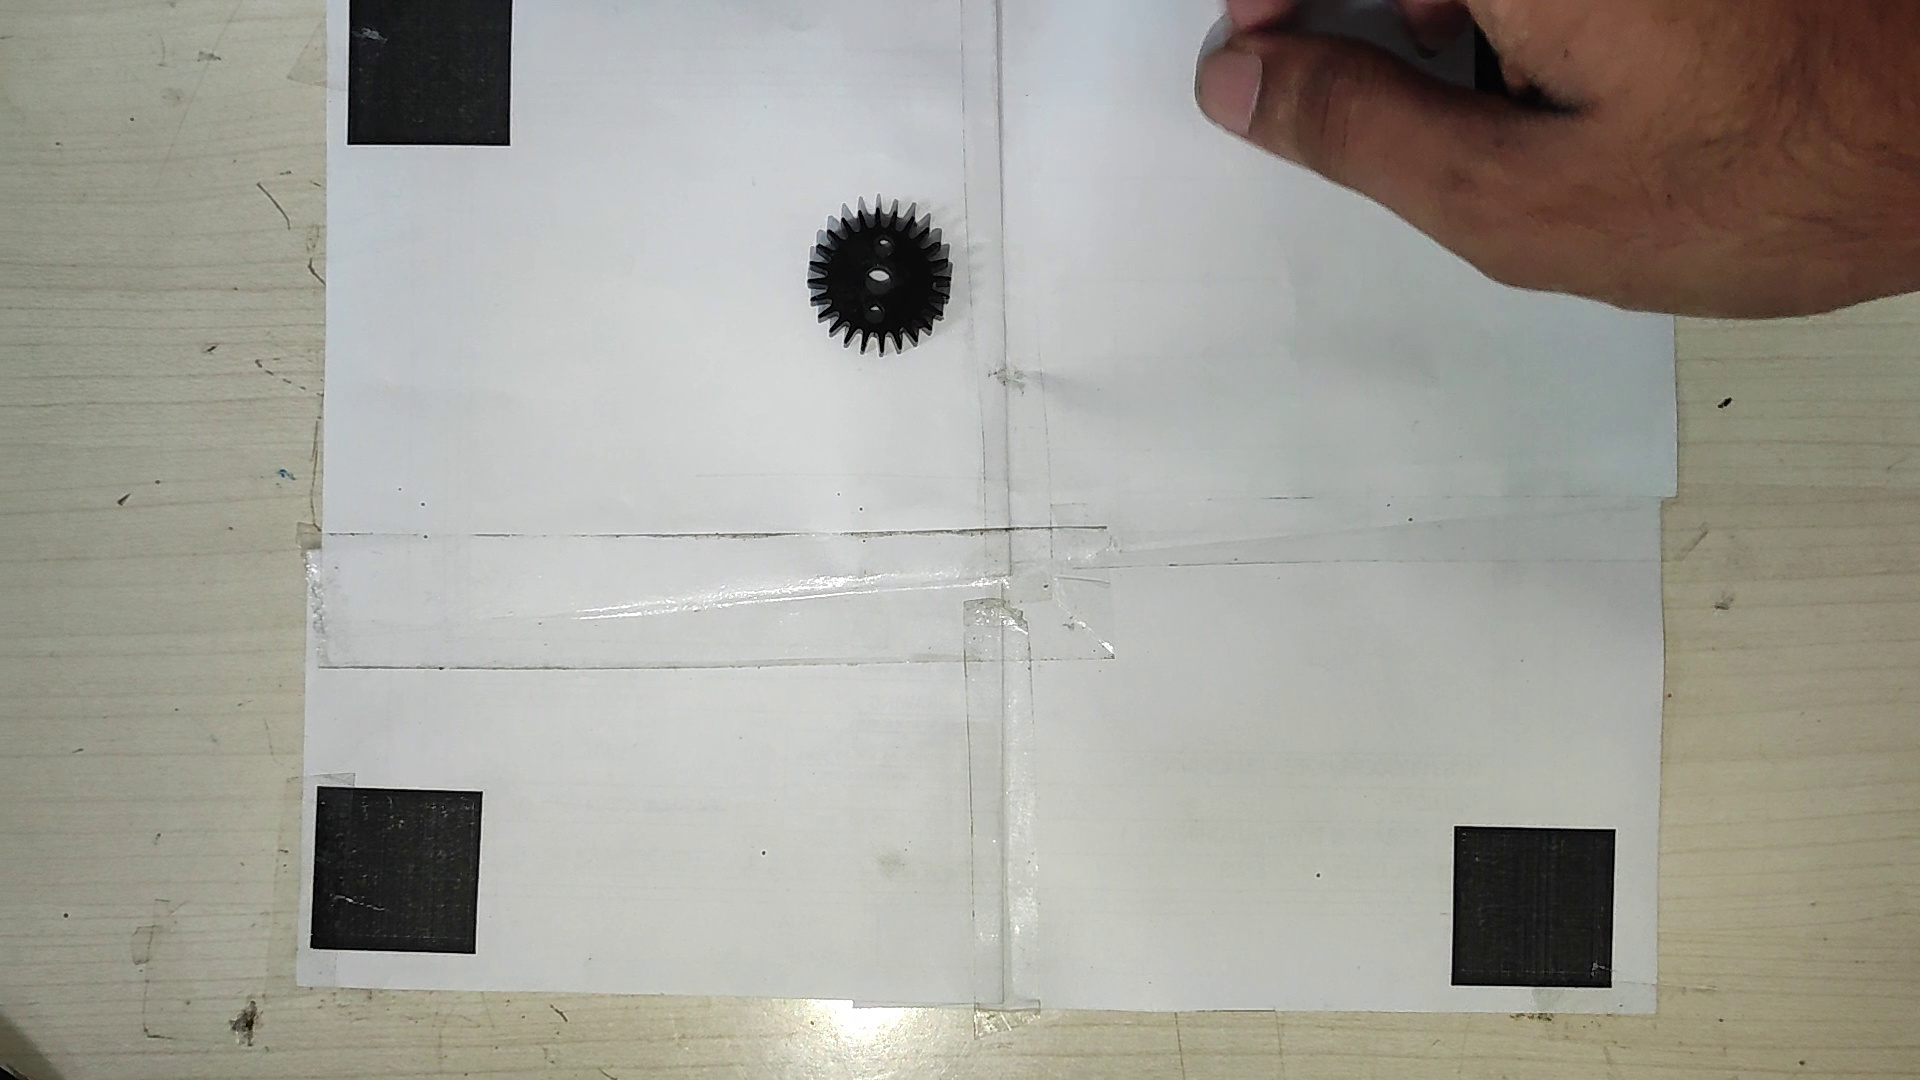Gear: (801, 195, 954, 350)
